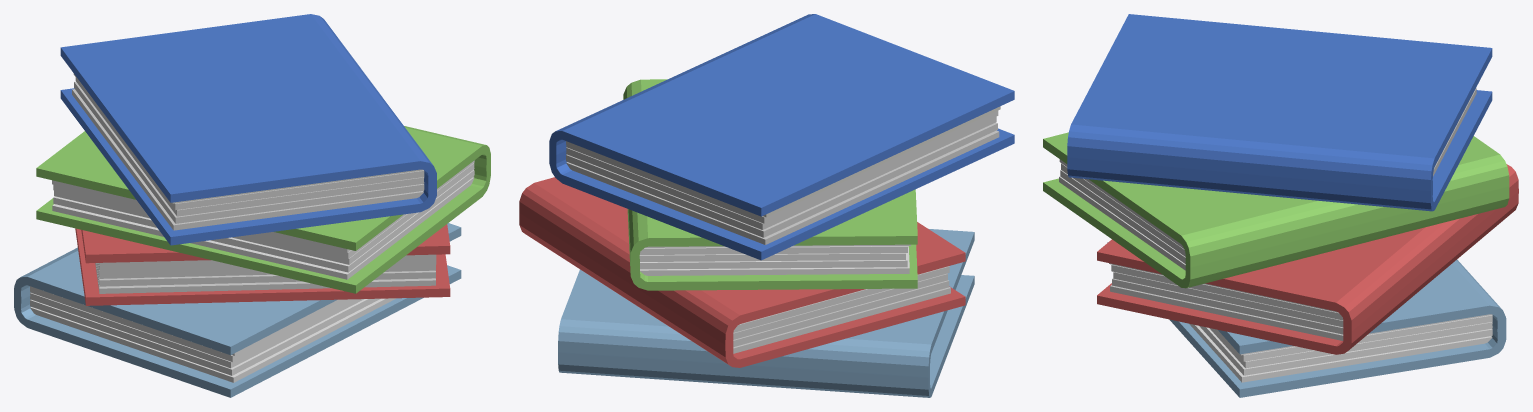
Rendered from book4.fbx.
The picture shows the model from 3 angles, left to right: view 1: azimuth 30°, elevation 25°; view 2: azimuth 150°, elevation 25°; view 3: azimuth 270°, elevation 25°; orthographic projection. The views are drawn at different scales.
Parts seen in each view (by area): view 1: book 6, book 3, book 5, book 4, Cube.030, Cube.028, Cube.031, Cube.016, Cube.029, Cube.017, Cube.018, Cube.027 (+11 smaller); view 2: book 6, book 3, book 4, book 5, Cube.028, Cube.029, Cube.027, Cube.026, Cube.031, Cube.030, Cube.032, Cube.019 (+5 smaller); view 3: book 6, book 5, book 4, book 3, Cube.016, Cube.017, Cube.015, Cube.019, Cube.020, Cube.018, Cube.014, Cube.021 (+3 smaller).
Boxes of the visible parts, left/top/right/bottom form: book 6: left=60, top=14, right=436, bottom=245; book 3: left=14, top=223, right=461, bottom=397; book 5: left=36, top=126, right=490, bottom=293; book 4: left=75, top=224, right=450, bottom=305; Cube.030: left=52, top=177, right=474, bottom=279; Cube.028: left=74, top=81, right=424, bottom=223; Cube.031: left=53, top=170, right=474, bottom=272; Cube.016: left=30, top=298, right=380, bottom=375; Cube.029: left=72, top=89, right=423, bottom=230; Cube.017: left=30, top=298, right=396, bottom=382; Cube.018: left=95, top=263, right=435, bottom=293; Cube.027: left=75, top=77, right=424, bottom=216; book 6: left=549, top=14, right=1014, bottom=260; book 3: left=558, top=229, right=974, bottom=397; book 4: left=519, top=177, right=965, bottom=367; book 5: left=623, top=79, right=917, bottom=290; Cube.028: left=566, top=122, right=997, bottom=237; Cube.029: left=566, top=130, right=999, bottom=244; Cube.027: left=566, top=116, right=996, bottom=229; Cube.026: left=566, top=110, right=998, bottom=223; Cube.031: left=640, top=253, right=907, bottom=269; Cube.030: left=640, top=246, right=909, bottom=275; Cube.032: left=639, top=253, right=905, bottom=261; Cube.019: left=733, top=280, right=949, bottom=347; book 6: left=1067, top=14, right=1492, bottom=211; book 5: left=1043, top=132, right=1509, bottom=288; book 4: left=1097, top=164, right=1518, bottom=354; book 3: left=1107, top=242, right=1506, bottom=397; Cube.016: left=1199, top=326, right=1492, bottom=375; Cube.017: left=1189, top=323, right=1492, bottom=382; Cube.015: left=1209, top=322, right=1492, bottom=368; Cube.019: left=1112, top=278, right=1343, bottom=334; Cube.020: left=1113, top=272, right=1343, bottom=327; Cube.018: left=1110, top=285, right=1343, bottom=340; Cube.014: left=1214, top=315, right=1492, bottom=361; Cube.021: left=1111, top=264, right=1343, bottom=320.
Bounding box in the file's own units: 360 × 175 × 356.
